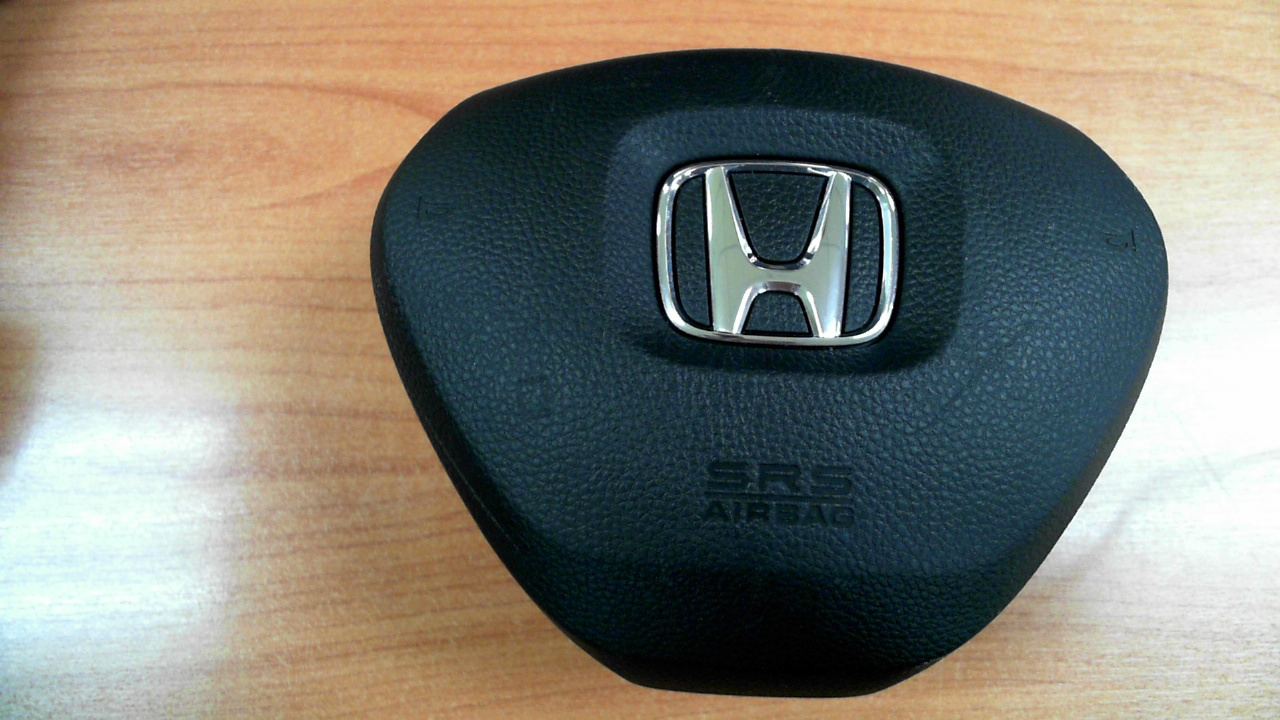Airbag: (370, 48, 1170, 701)
Honda: (655, 161, 900, 346)
